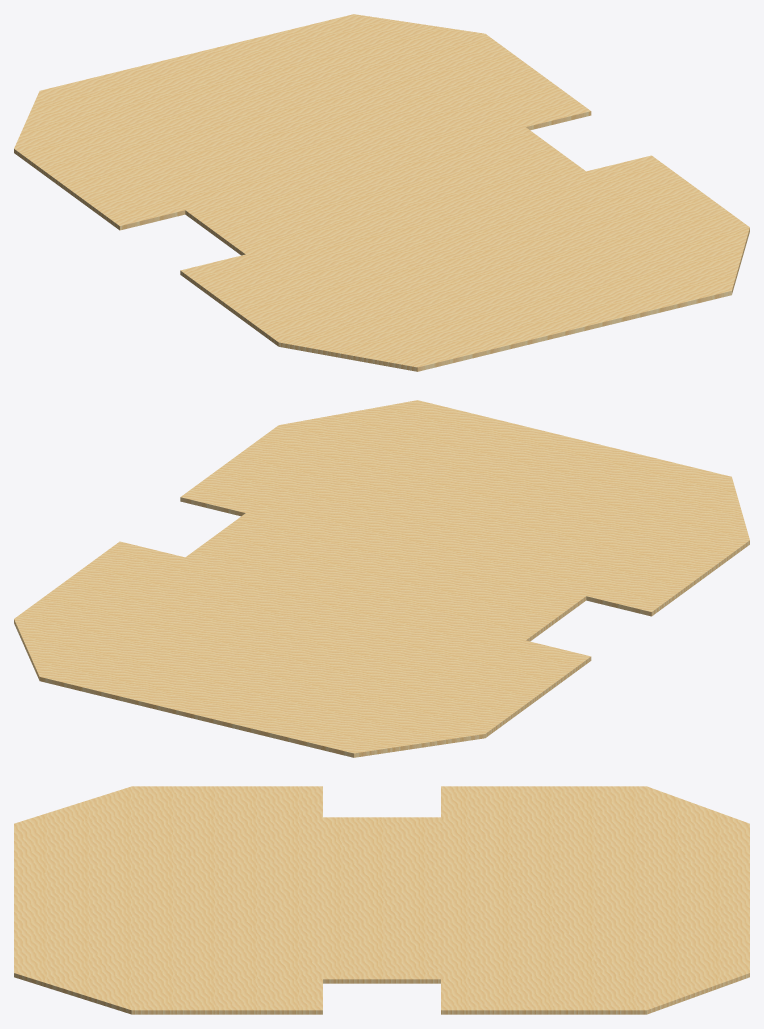
File: seabed-19-Bz0SBb0V.glb
3 renders of one model, top to bottom at view 1: azimuth 30°, elevation 25°; view 2: azimuth 150°, elevation 25°; view 3: azimuth 270°, elevation 25°, orthographic. The views are drawn at different scales.
Visible parts, largest first — view 1: SW_SandShelf; view 2: SW_SandShelf; view 3: SW_SandShelf.
Part boxes in pixels (bbox=[...]): SW_SandShelf: bbox=[14, 14, 749, 371]; SW_SandShelf: bbox=[14, 400, 749, 757]; SW_SandShelf: bbox=[14, 786, 749, 1014].
Size of what is drawn, in the model's own units: 36 by 0.32 by 50.
1 material, 1 textured.
